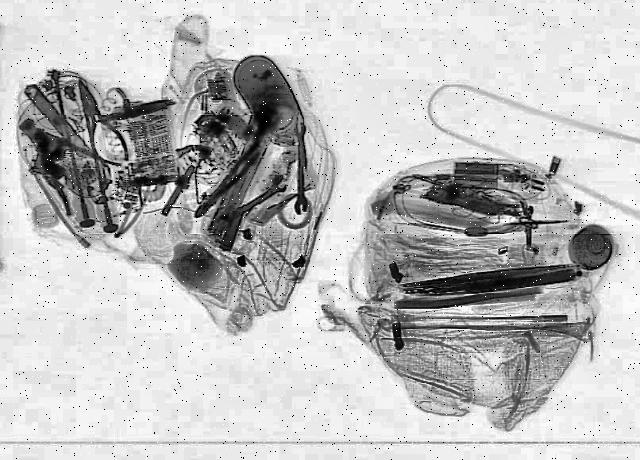Pliers: (58, 78, 134, 170), (187, 146, 265, 222)
Wrench: (207, 175, 293, 231), (294, 123, 306, 215)
